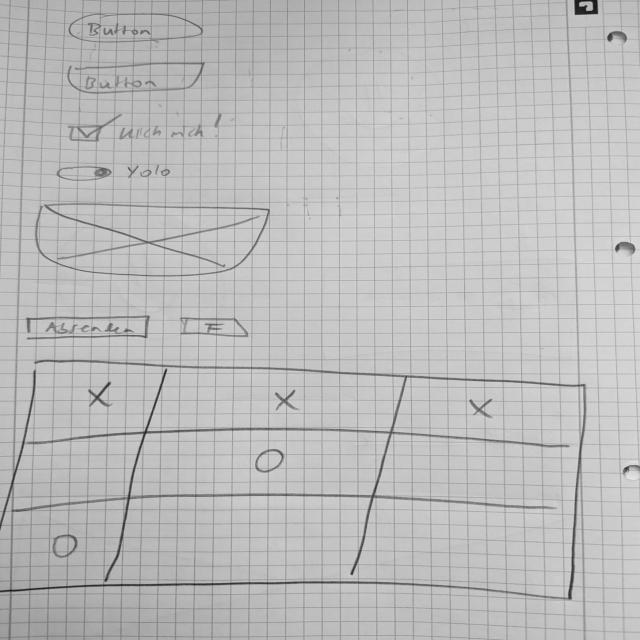button: (61, 61, 211, 97), (65, 12, 209, 44), (23, 314, 155, 342)
checkbox: (65, 111, 229, 147)
icon-button: (178, 315, 252, 341)
image: (36, 202, 273, 278)
table: (1, 358, 591, 603)
text: (124, 163, 176, 183)
toggle: (56, 163, 115, 185)
